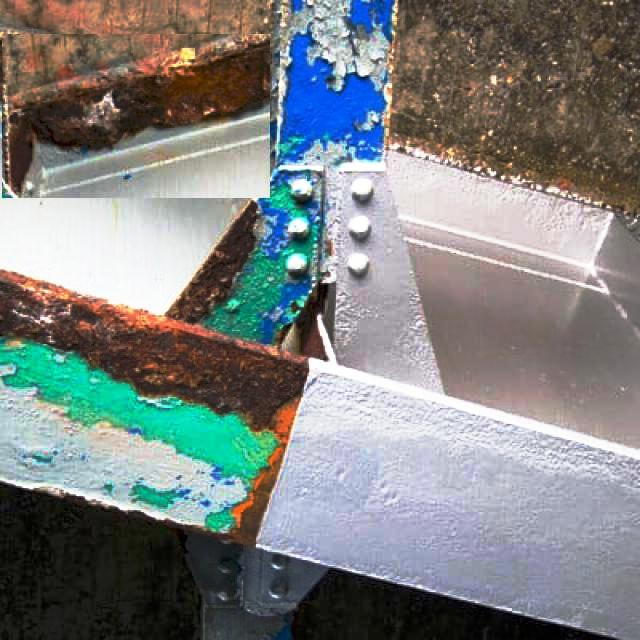Corrosion: (0, 270, 308, 545), (0, 270, 309, 430), (9, 40, 269, 192), (3, 416, 213, 534), (165, 201, 258, 322), (154, 42, 270, 126), (10, 441, 60, 476), (301, 319, 327, 360)
